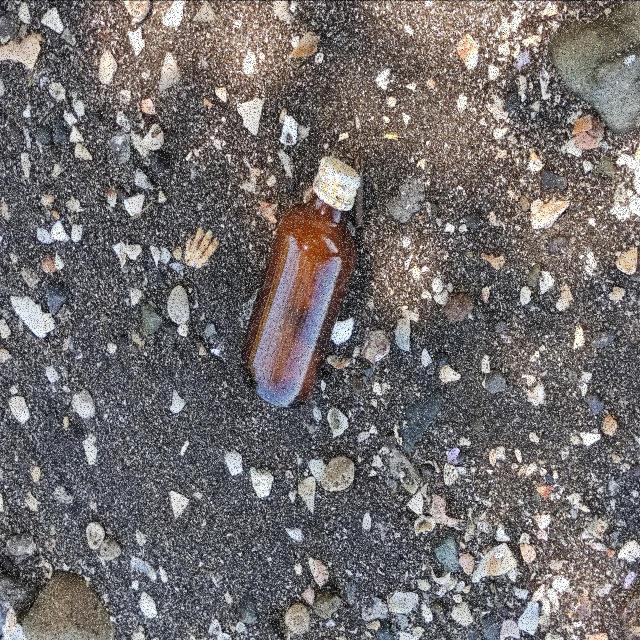glass_waste: (244, 160, 364, 414)
